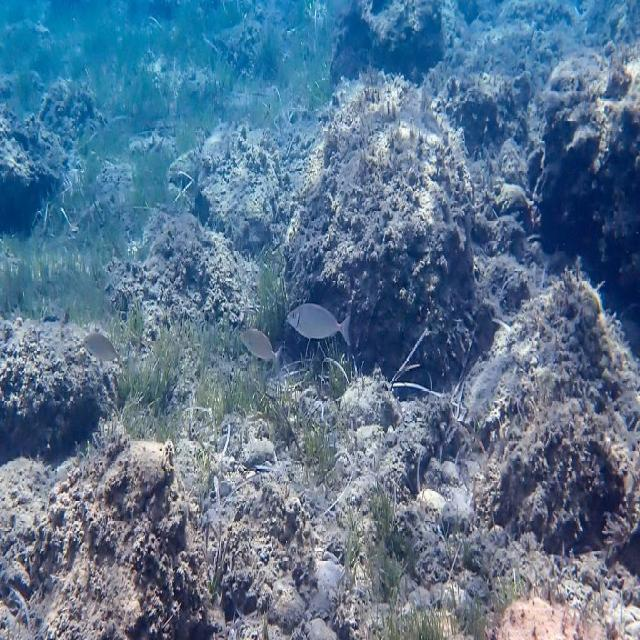Sokar Baligi: (286, 293, 356, 360), (234, 310, 284, 383)
